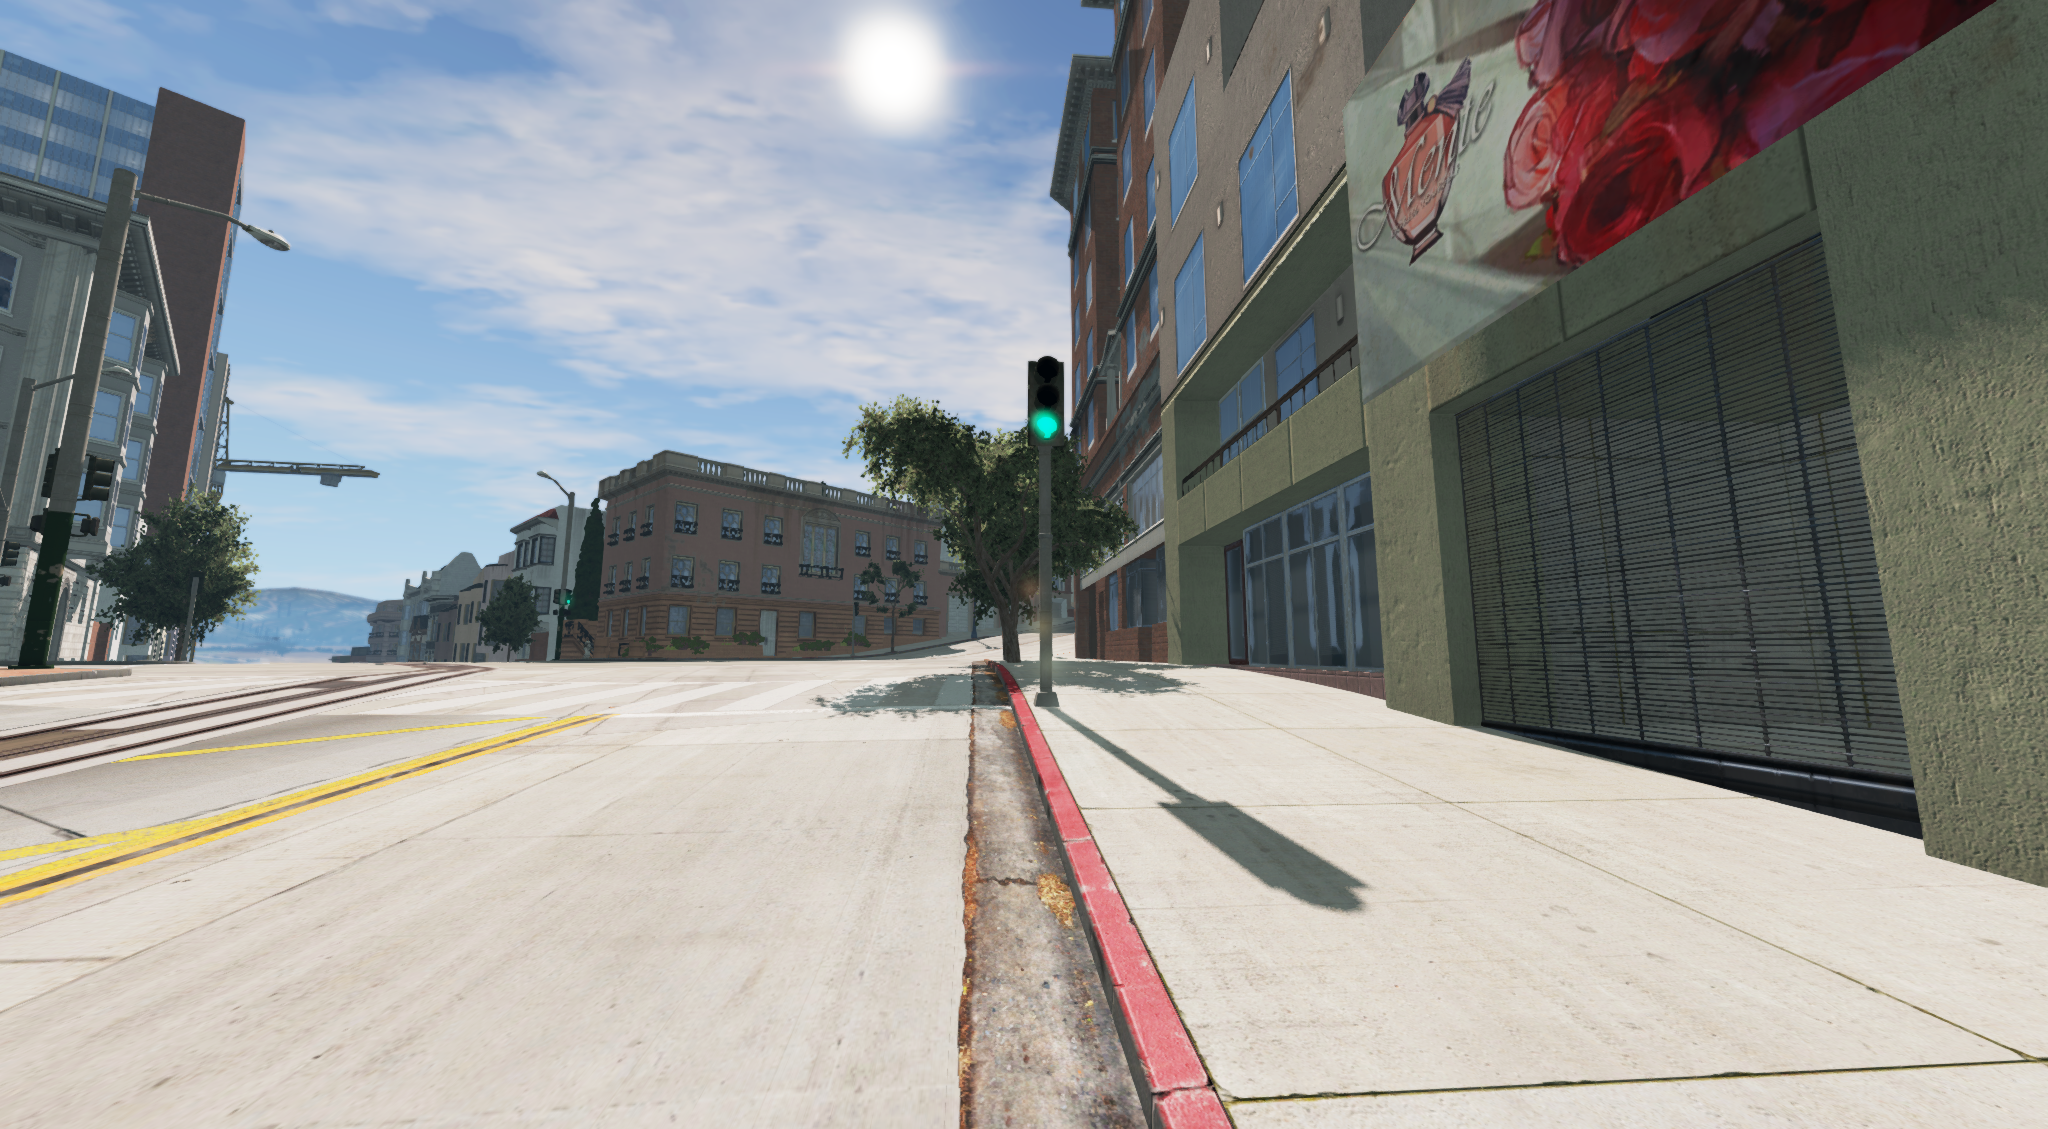green: (1016, 356, 1072, 449)
